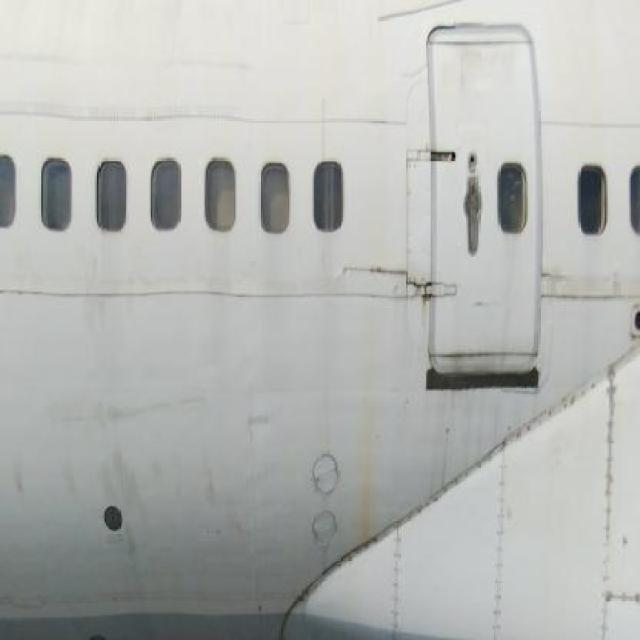Missing-Rivet: (593, 327, 634, 640), (268, 532, 380, 631), (482, 427, 516, 640), (414, 462, 483, 522), (518, 392, 592, 440), (388, 504, 414, 640)
Rust: (354, 363, 381, 548), (412, 274, 432, 332)
